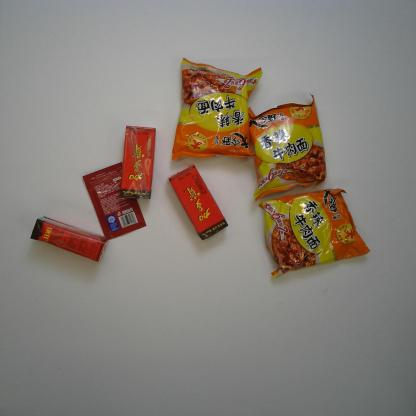Drink: (167, 164, 229, 240), (31, 217, 108, 262), (120, 125, 156, 199)
Instant Noodles: (259, 188, 370, 280), (171, 57, 263, 161), (246, 92, 328, 202)
Seasoner: (82, 161, 147, 240)
